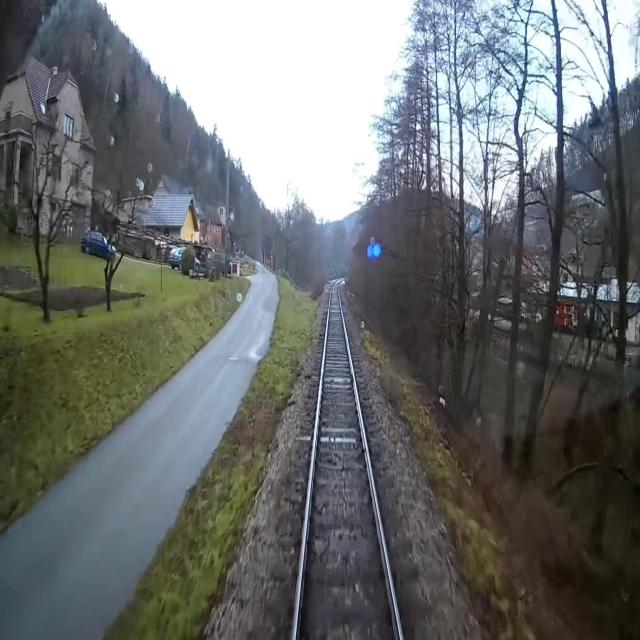rail-track: (296, 281, 399, 639)
